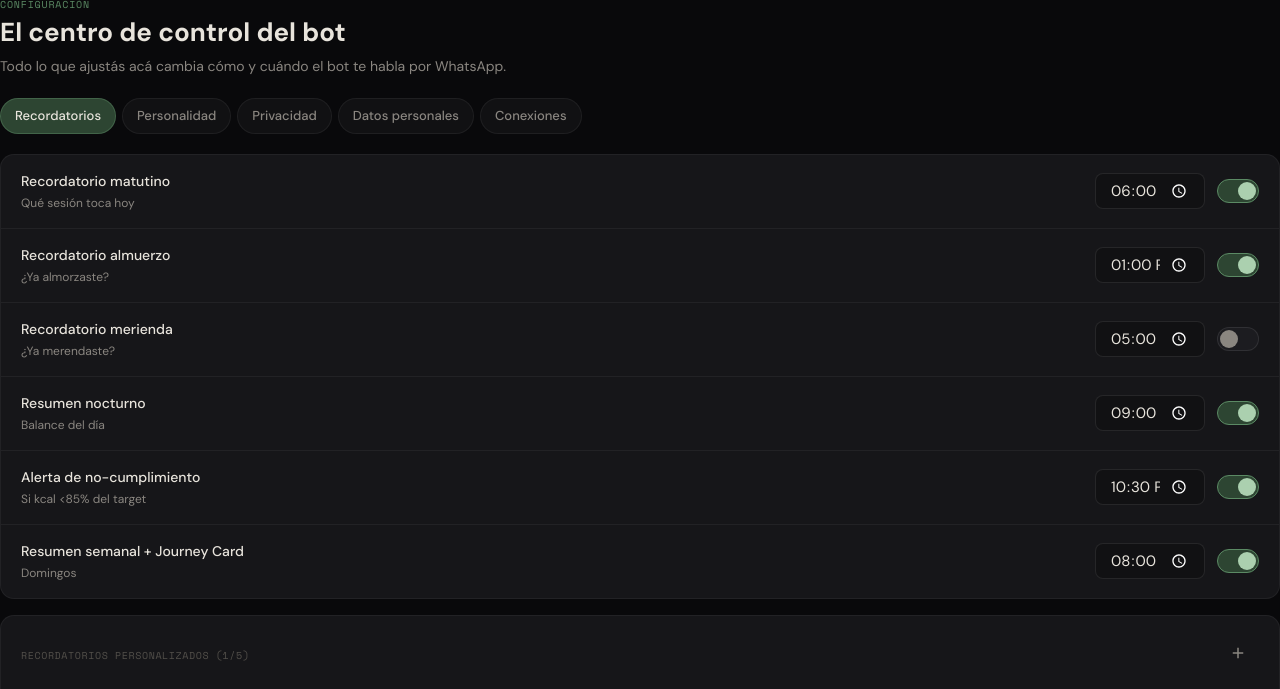
Test: Settings › prefills personal data and disables destructive actions offline
What coordinates should you click on to do the following:
click the tab "Datos personales"
I would click on:
 (406, 116)
Its box is [338, 98, 474, 134].
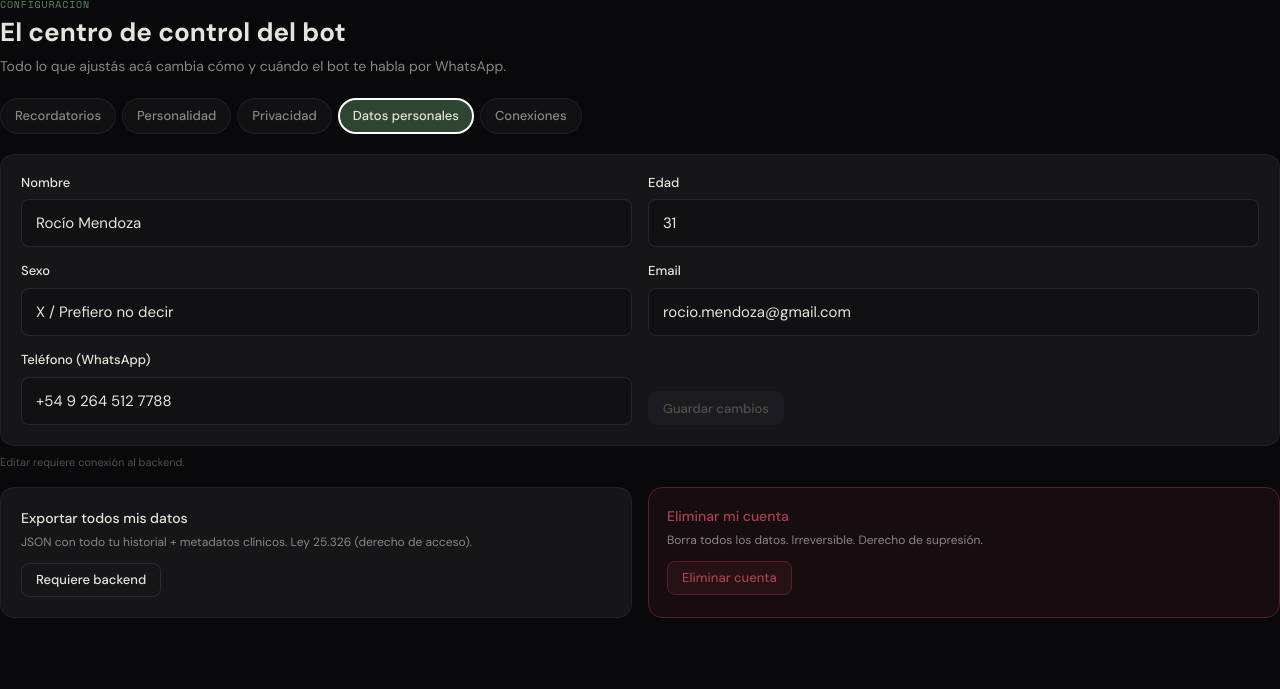
Expected: the field showing "Rocío Mendoza" below "Nombre" is shown, [21, 200, 632, 248]
Expected: the button "Guardar cambios" is disabled, [648, 391, 784, 425]
Expected: the button "Eliminar cuenta" is disabled, [667, 561, 792, 595]
